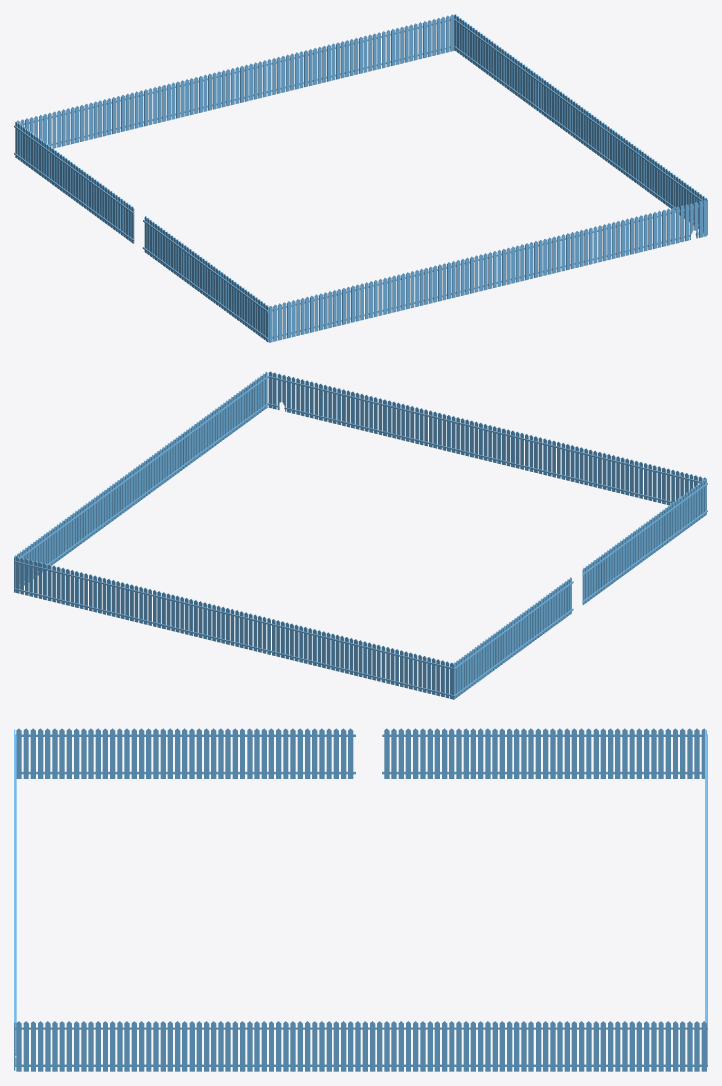
The model's file is Fence 5.fbx.
3 views of the same model, one above another, from view 1: azimuth 30°, elevation 25°; view 2: azimuth 150°, elevation 25°; view 3: azimuth 270°, elevation 25° (orthographic). The views are drawn at different scales.
Parts seen in each view (by area): view 1: fence_picket__11_.004; view 2: fence_picket__11_.004; view 3: fence_picket__11_.004.
Boxes of the visible parts, box(x1,y1,x2,y2) form: fence_picket__11_.004: box(14, 14, 707, 342); fence_picket__11_.004: box(14, 371, 707, 699); fence_picket__11_.004: box(14, 728, 707, 1071).
Bounding box in the file's own units: 2410 × 192 × 2405.
